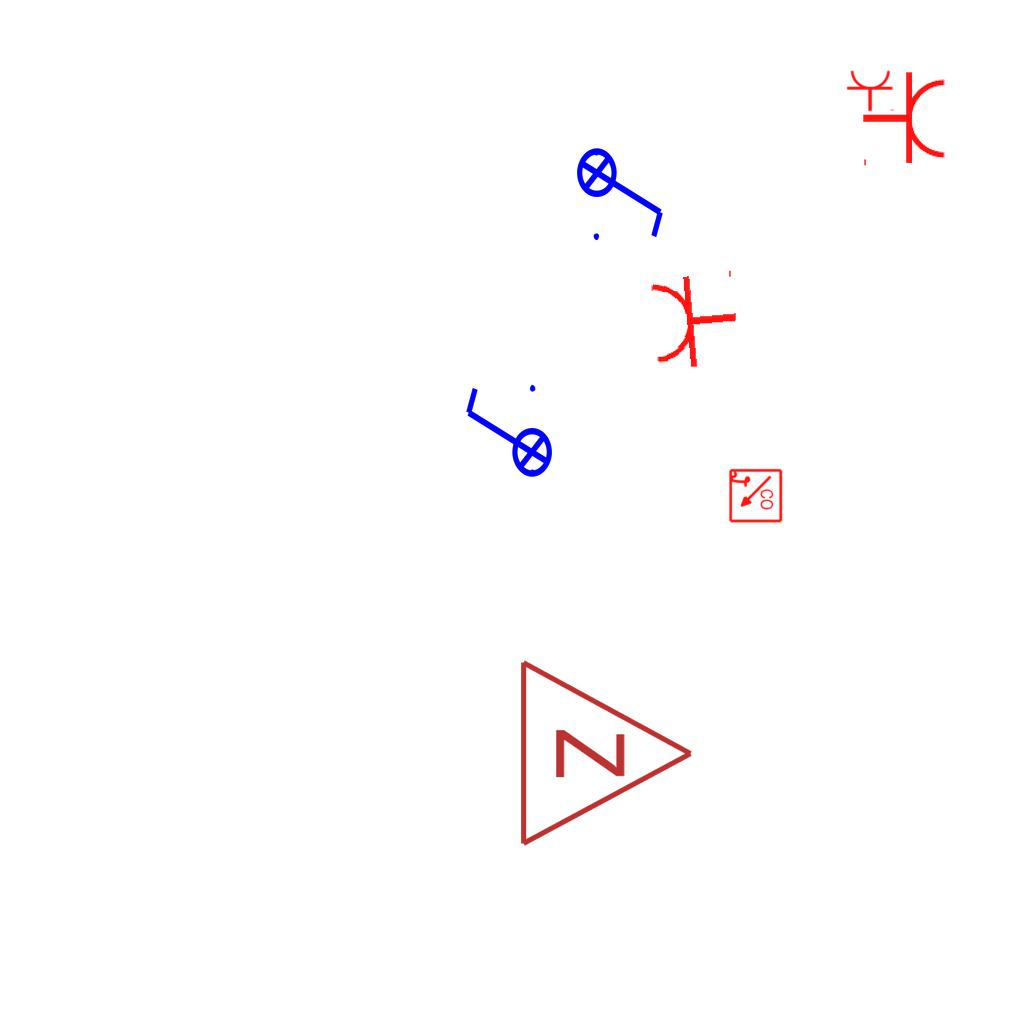Ausschalter_beleuchtet: (458, 379, 554, 491), (575, 134, 671, 246)
ROA_Rauchmelder_optisch_mit_Signalgeber_(Sockelsirene): (727, 468, 783, 524)
Schukosteckdose_einfach: (646, 265, 743, 373), (861, 70, 948, 170), (846, 69, 896, 112)
Zimmersignalleuchte: (506, 653, 706, 849)
